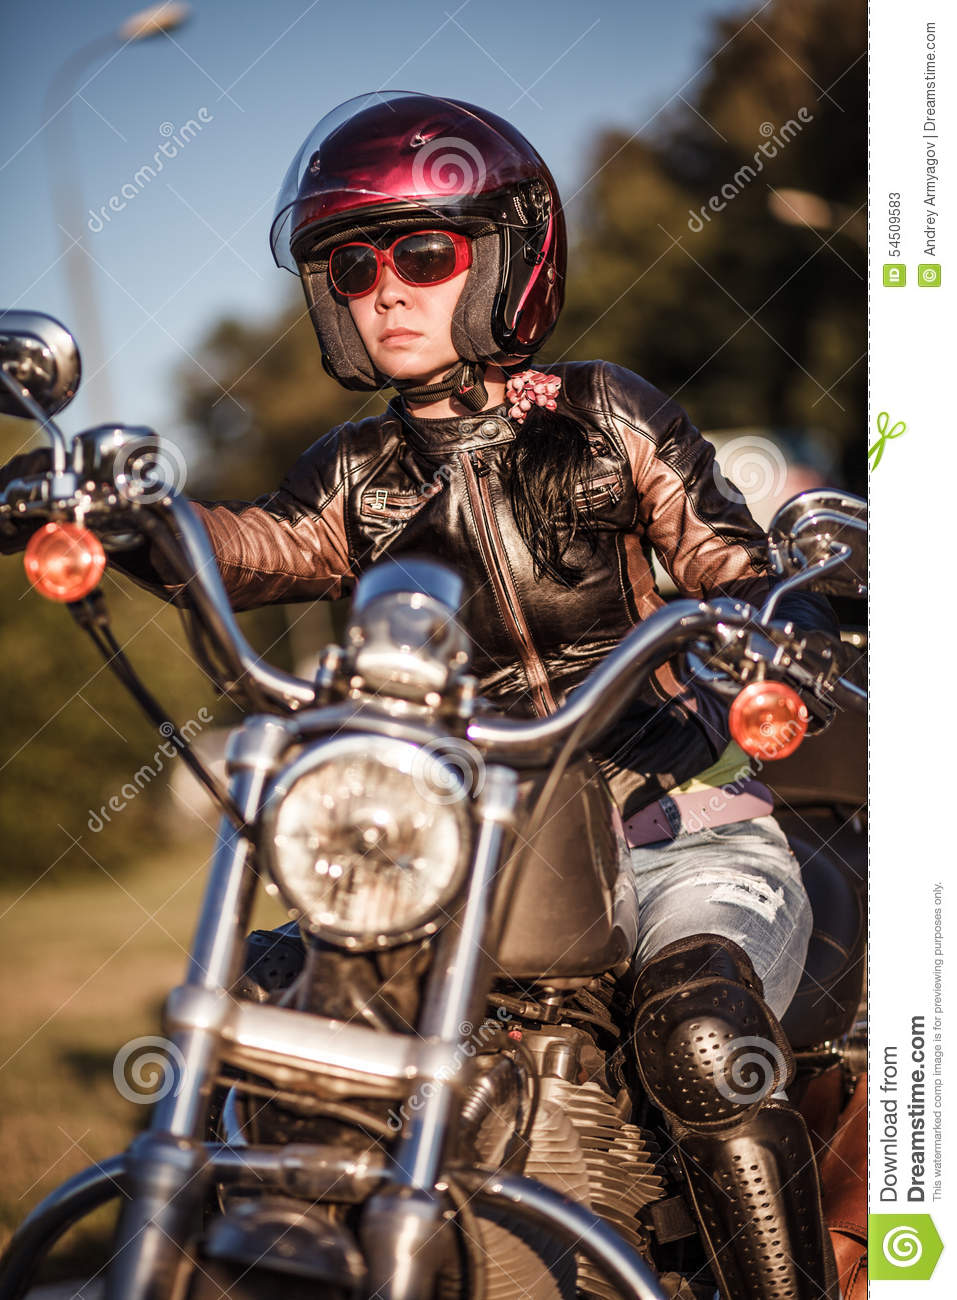helmet: (284, 117, 576, 375)
